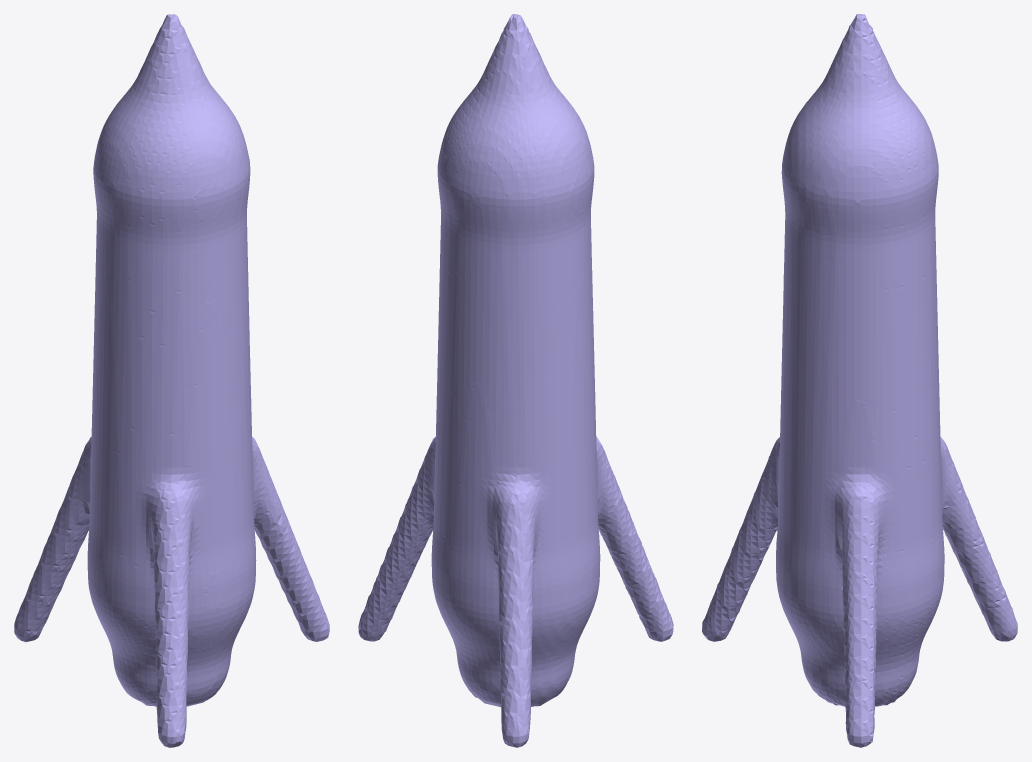
Rendered from v01d-forge-printables-preview.glb.
The picture shows the model from 3 angles, left to right: view 1: azimuth 30°, elevation 25°; view 2: azimuth 150°, elevation 25°; view 3: azimuth 270°, elevation 25°; orthographic projection.
Bounding box in the file's own units: 0.5644 × 1.52 × 0.6427.
